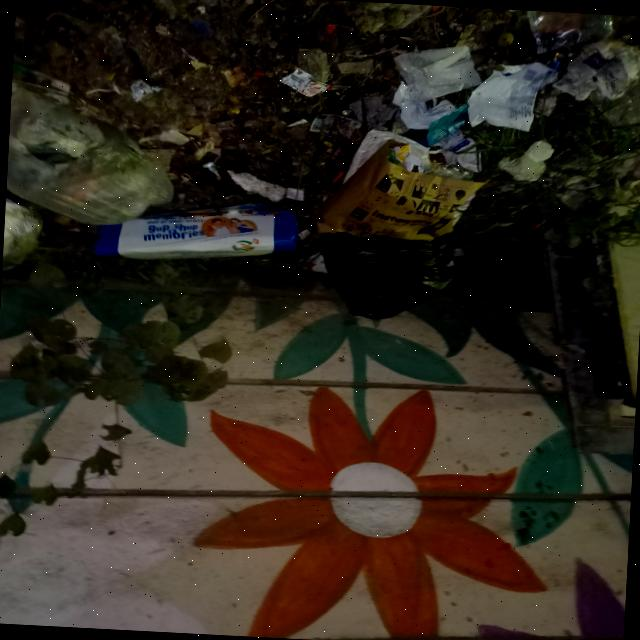garbage: (0, 0, 631, 335)
